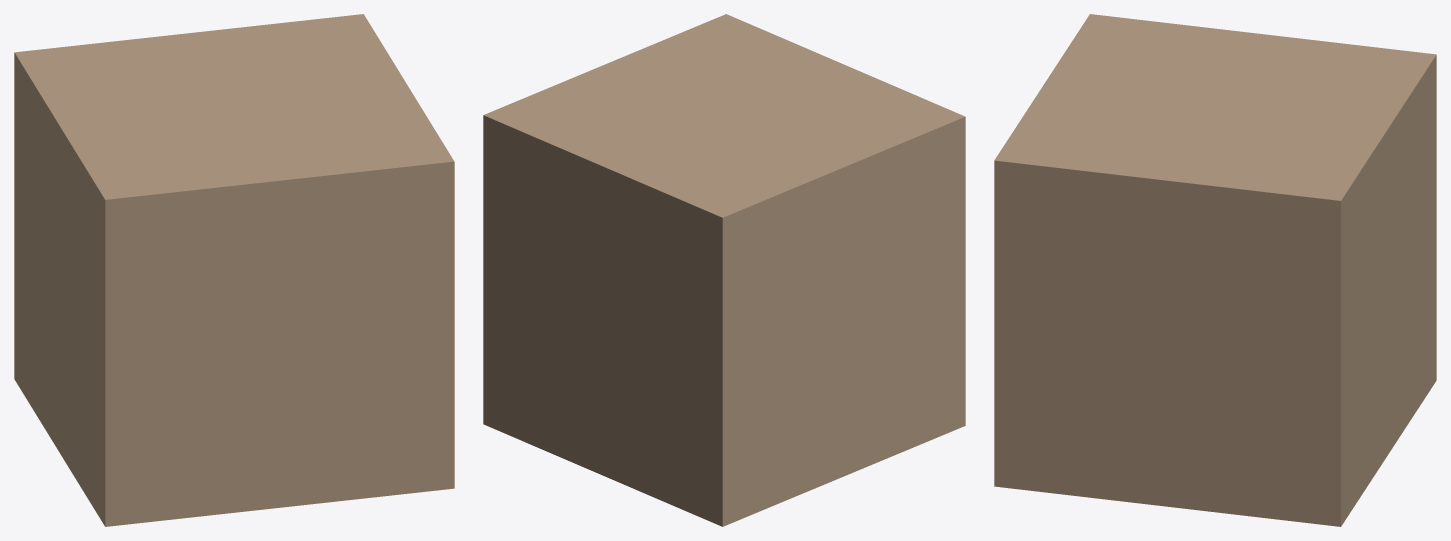
3 views of the same model, side by side, from view 1: azimuth 30°, elevation 25°; view 2: azimuth 150°, elevation 25°; view 3: azimuth 270°, elevation 25° (orthographic). The views are drawn at different scales.
Parts seen in each view (by area): view 1: Cube.013; view 2: Cube.013; view 3: Cube.013.
Part boxes in pixels (bbox=[...]): Cube.013: bbox=[14, 14, 454, 526]; Cube.013: bbox=[483, 14, 965, 526]; Cube.013: bbox=[994, 14, 1436, 526].
Bounding box in the file's own units: 0.381 × 0.3098 × 0.381.
